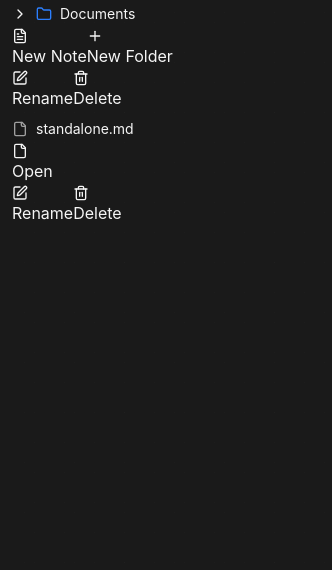
Test case: FolderTree › folder expansion › handles nested folder expansion
Note: Expand Documents folder
Click the text "Documents" at coordinates (98, 14), box [60, 4, 135, 24]
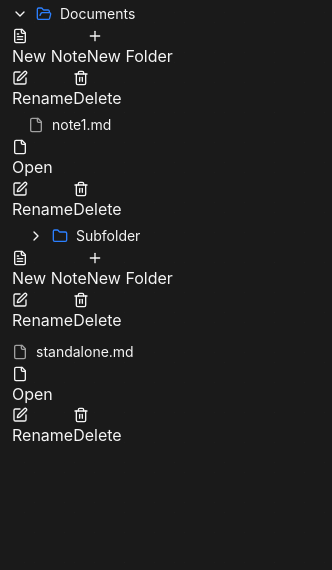
Expected: the text "note2.md" is not shown
Now the text "Subfolder" is shown
Note: Expand Subfolder
Click the text "Subfolder" at coordinates (108, 236), box [76, 226, 140, 246]
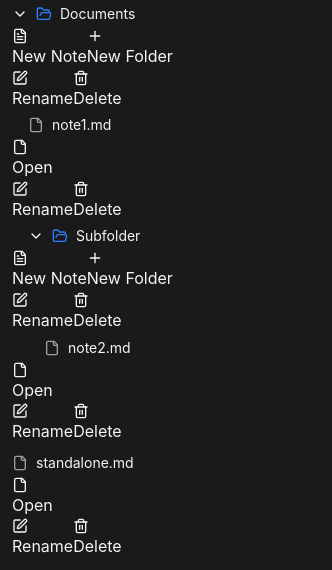
Now the text "note2.md" is shown, box [68, 338, 131, 358]
